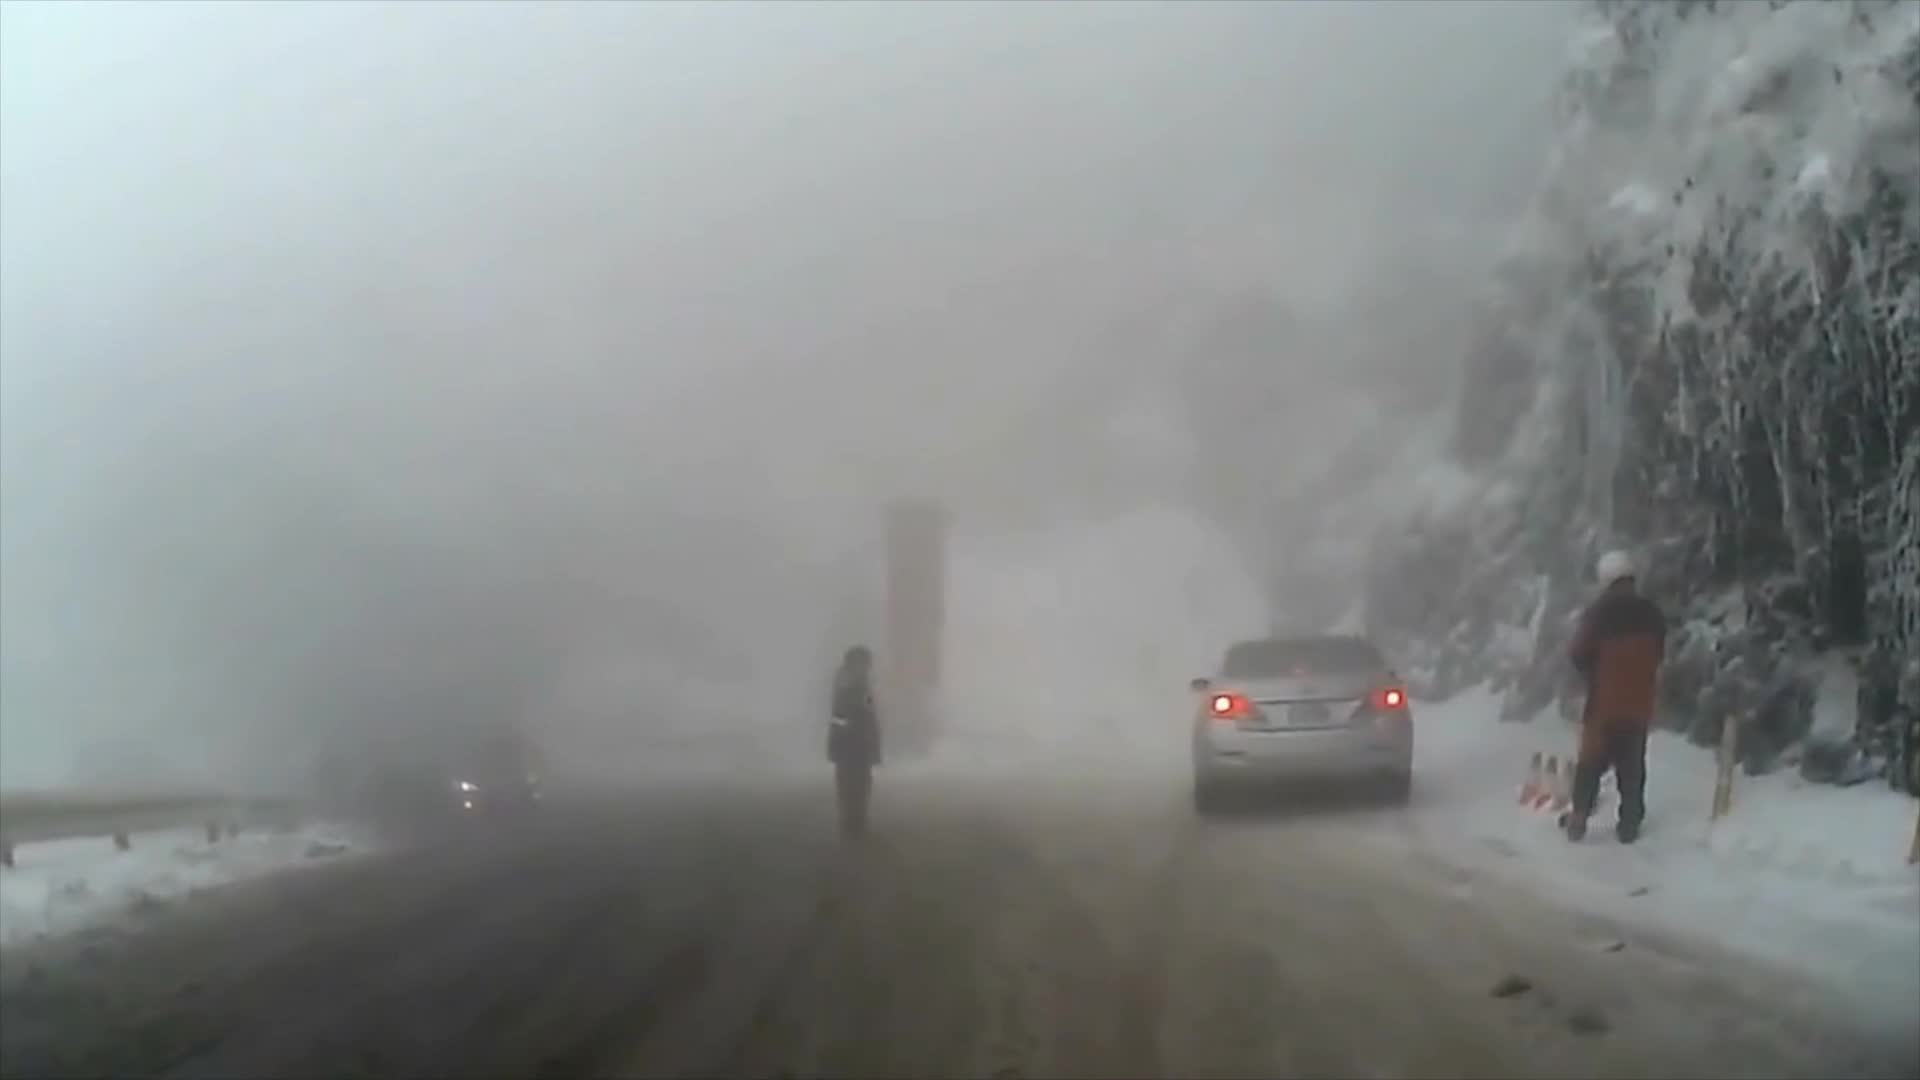pedestrian: (1551, 552, 1664, 858), (826, 645, 885, 840)
vehicle: (1186, 633, 1413, 817)
